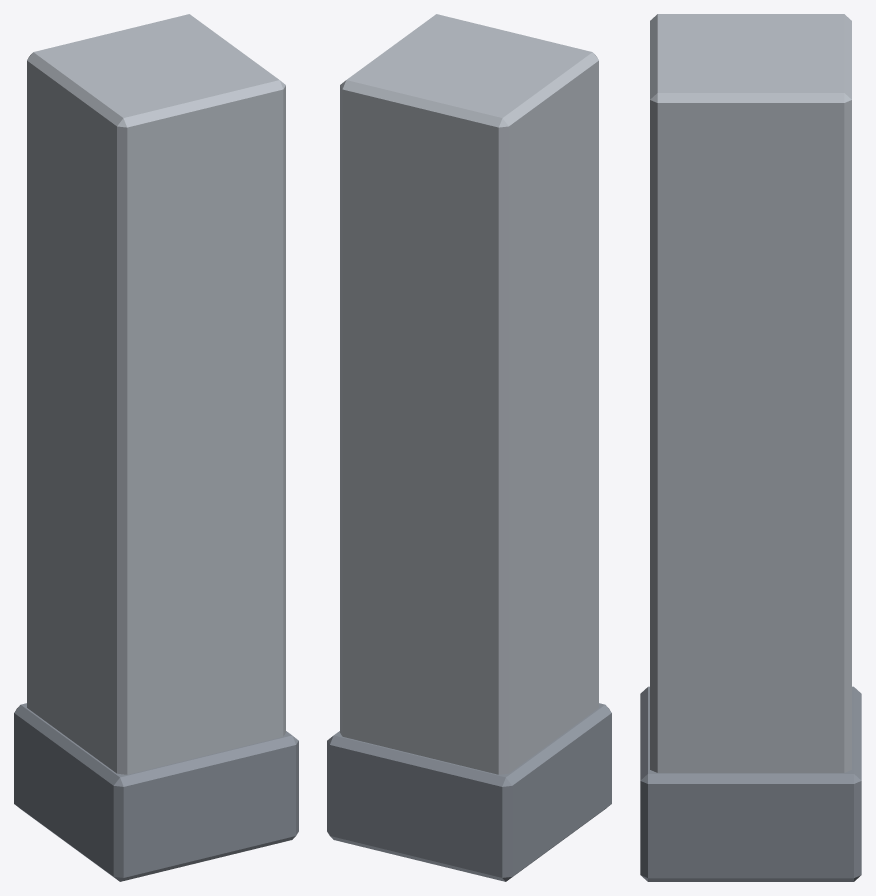
Rendered from soco_h45_canto.glb.
The picture shows the model from 3 angles, left to right: view 1: azimuth 30°, elevation 25°; view 2: azimuth 150°, elevation 25°; view 3: azimuth 270°, elevation 25°; orthographic projection. The views are drawn at different scales.
Parts seen in each view (by area): view 1: soco_h45_canto; view 2: soco_h45_canto; view 3: soco_h45_canto.
Boxes of the visible parts, x1,y1,x2,y2 form: soco_h45_canto: (14, 14, 298, 881); soco_h45_canto: (327, 14, 611, 881); soco_h45_canto: (640, 14, 861, 881).
Bounding box in the file's own units: 0.115 × 0.45 × 0.115.
Materials: 1 (1 with a texture image).
